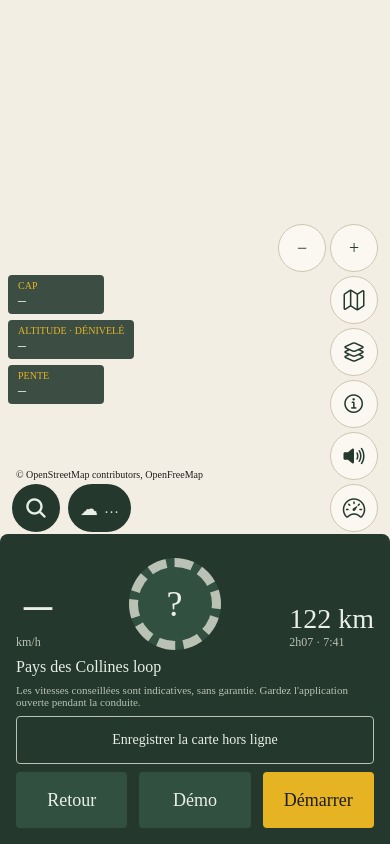
the map key opens in French
Step 1. Click the button named "Afficher la légende de la carte" → (354, 404), box [330, 380, 378, 428]
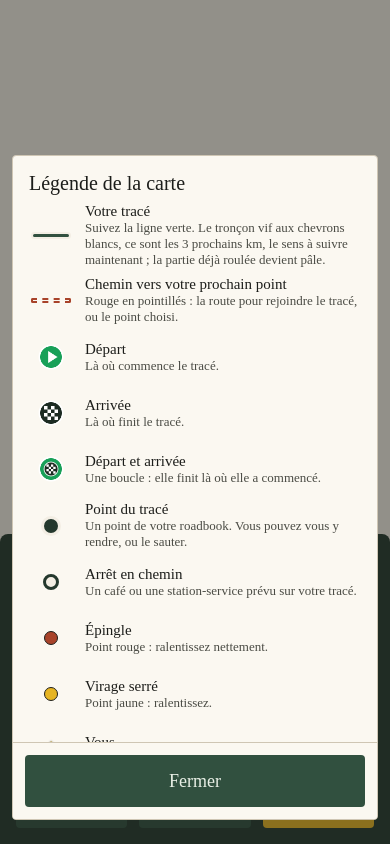
Result: the text "Légende de la carte" is shown at [29, 172, 185, 194]
Result: the text "Épingle" is shown at [85, 622, 132, 638]
Result: the text "Fermer" is shown at [169, 770, 221, 792]
